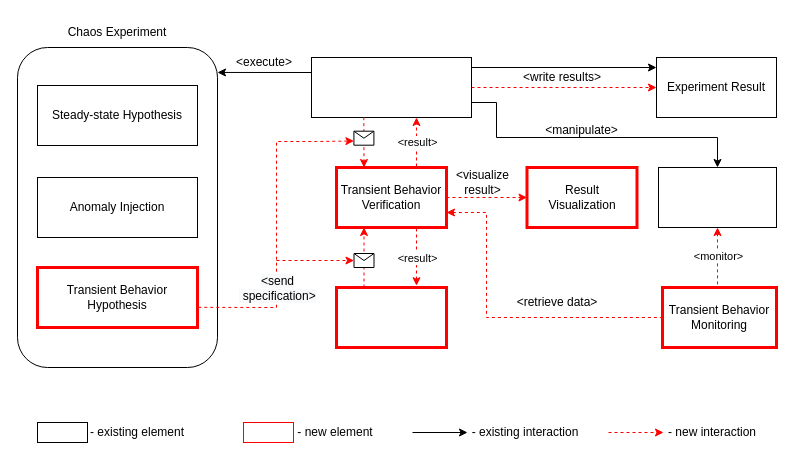
Some shapes in this 795 by 464 pixel diagram are drawn without their labels. The shapes that lost their labels are listed below. From the top down, each one's centre as x and y in pixels, then its label:
At (391,87): "Chaos Engineering Tool".
At (717,197): "System Under Test".
At (391,317): "GUI".
